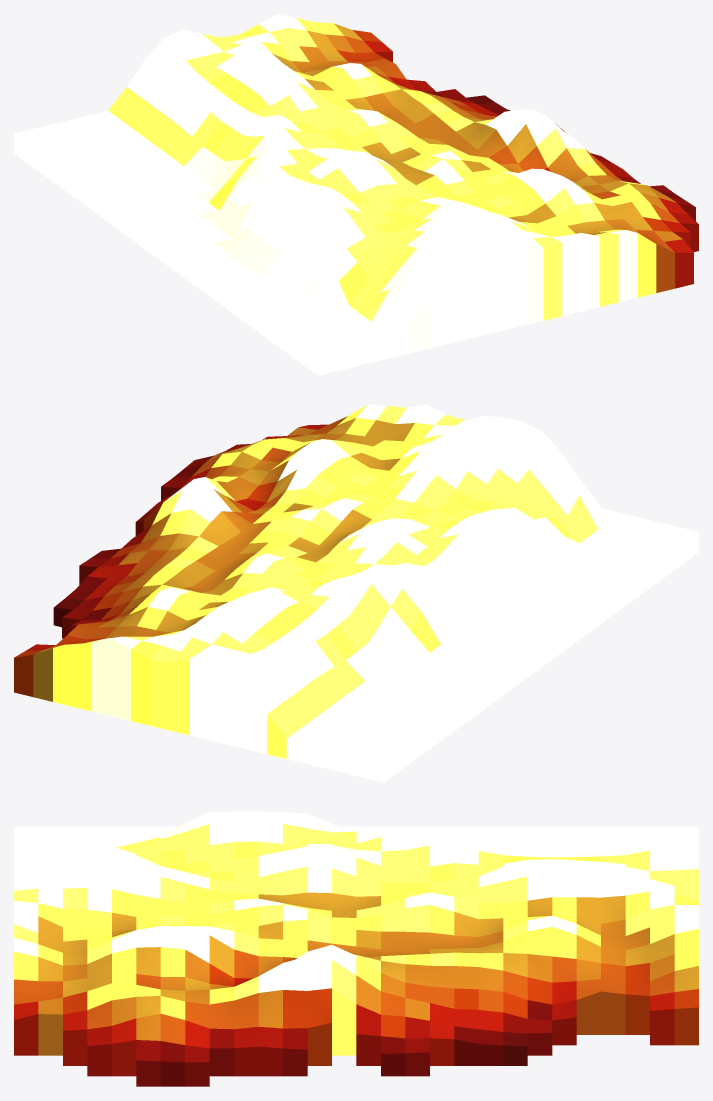
File: newshk-55.glb
The picture shows the model from 3 angles, top to bottom: view 1: azimuth 30°, elevation 25°; view 2: azimuth 150°, elevation 25°; view 3: azimuth 270°, elevation 25°; orthographic projection. The views are drawn at different scales.
Visible parts, largest first — view 1: newshk-55; view 2: newshk-55; view 3: newshk-55.
Boxes of the visible parts, x1,y1,x2,y2 form: newshk-55: [14, 14, 698, 375]; newshk-55: [14, 404, 698, 782]; newshk-55: [14, 811, 698, 1086].
Bounding box in the file's own units: 1.92 × 0.3583 × 2.33.
